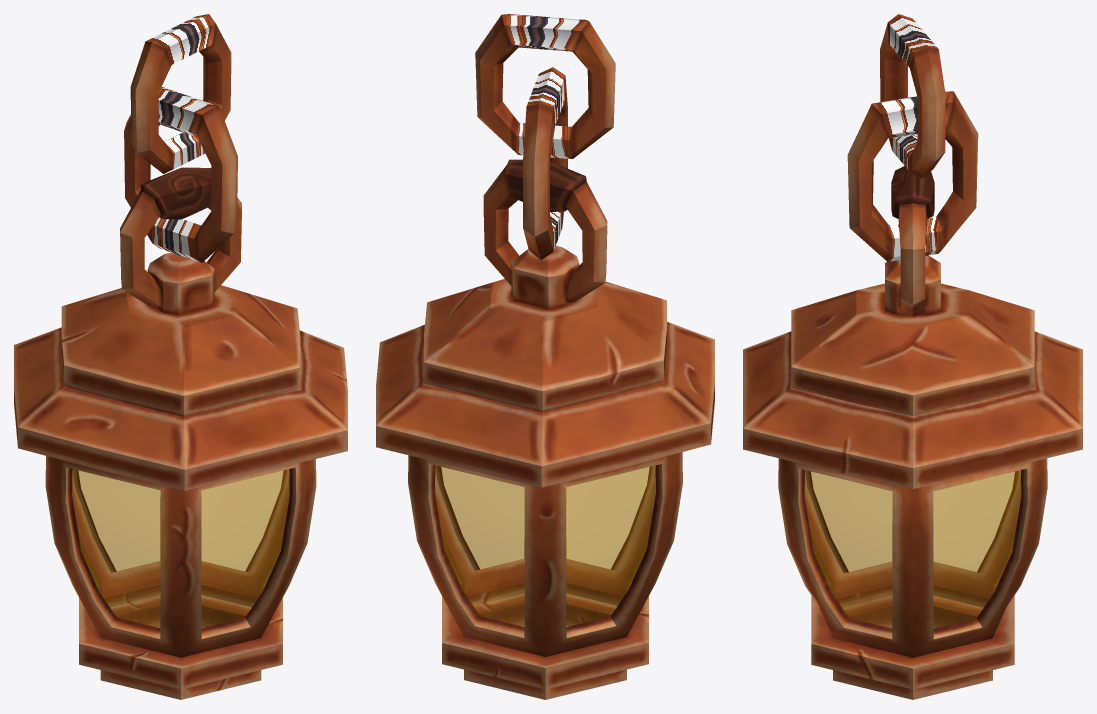
File: Лампа.fbx
The picture shows the model from 3 angles, left to right: view 1: azimuth 30°, elevation 25°; view 2: azimuth 150°, elevation 25°; view 3: azimuth 270°, elevation 25°; orthographic projection. The views are drawn at different scales.
Visible parts, largest first — view 1: Lamp; view 2: Lamp; view 3: Lamp.
Boxes of the visible parts, box(x1,y1,x2,y2) form: Lamp: box(14, 14, 347, 699); Lamp: box(376, 14, 714, 699); Lamp: box(743, 14, 1082, 699).
Bounding box in the file's own units: 0.7555 × 1.4 × 0.6849.
Materials: 2 (1 with a texture image).
